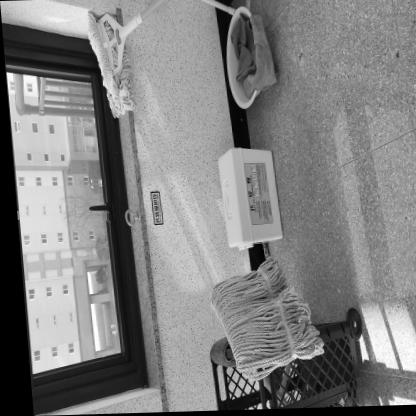DDL: (214, 148, 279, 246)
